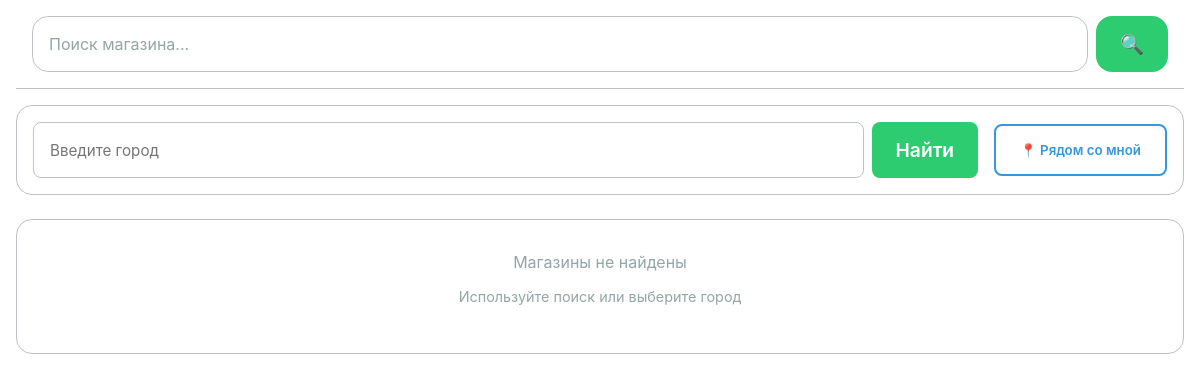
it: ShopsPage › searches by city on button click and shows results
Type "Portland" into the field with placeholder "Введите город" at coordinates (448, 150), box [33,122,864,178]
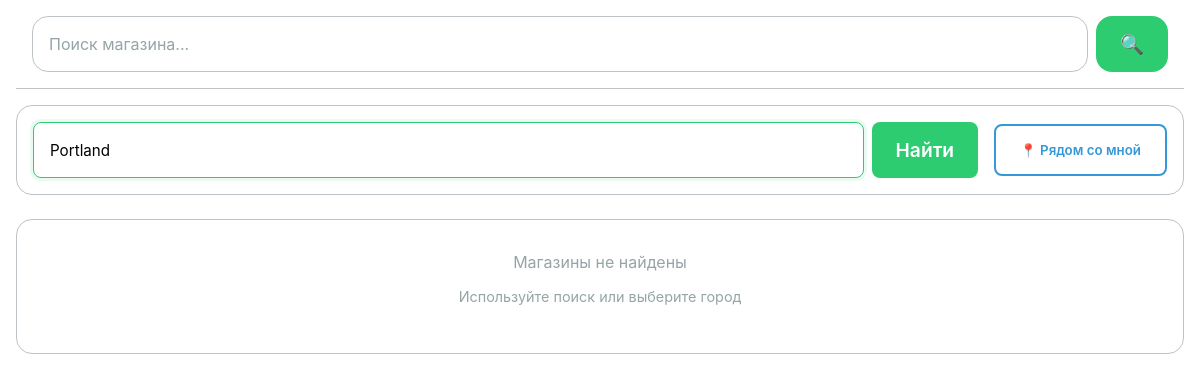
Click the button "Найти" at coordinates (925, 150), box [872,122,978,178]
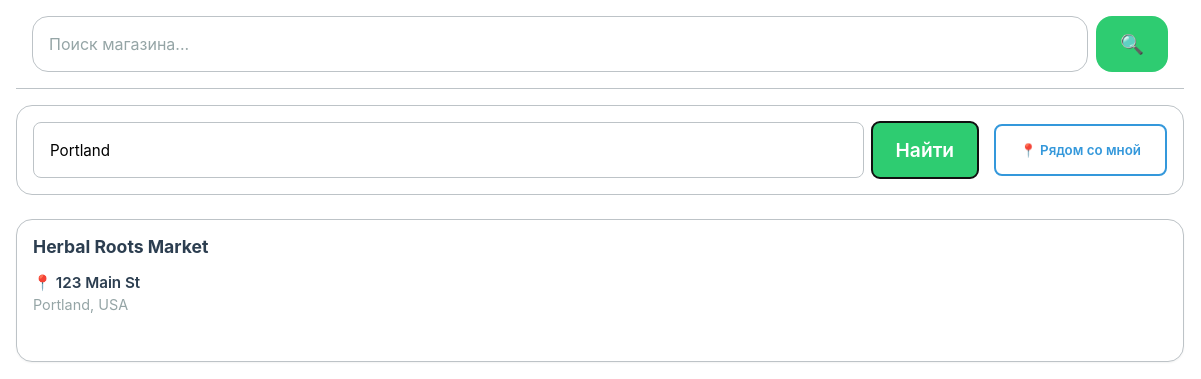
Now the heading "Herbal Roots Market" is shown, box [33,236,208,257]
